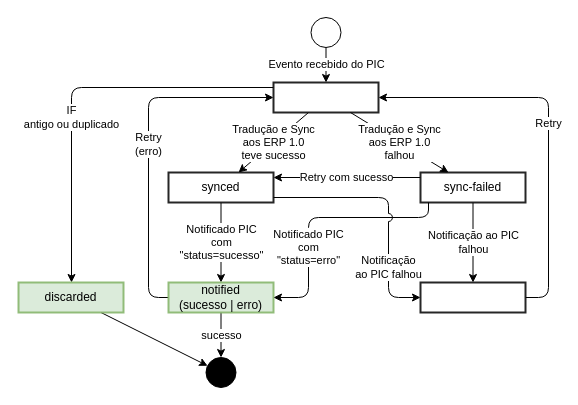
Some shapes in this 578 by 405 pixel diagram are drawn without their labels. The centre of each missing label's shape, as x and y in pixels:
"notification-failed" goes at point (472, 297).
"received" goes at point (325, 97).
